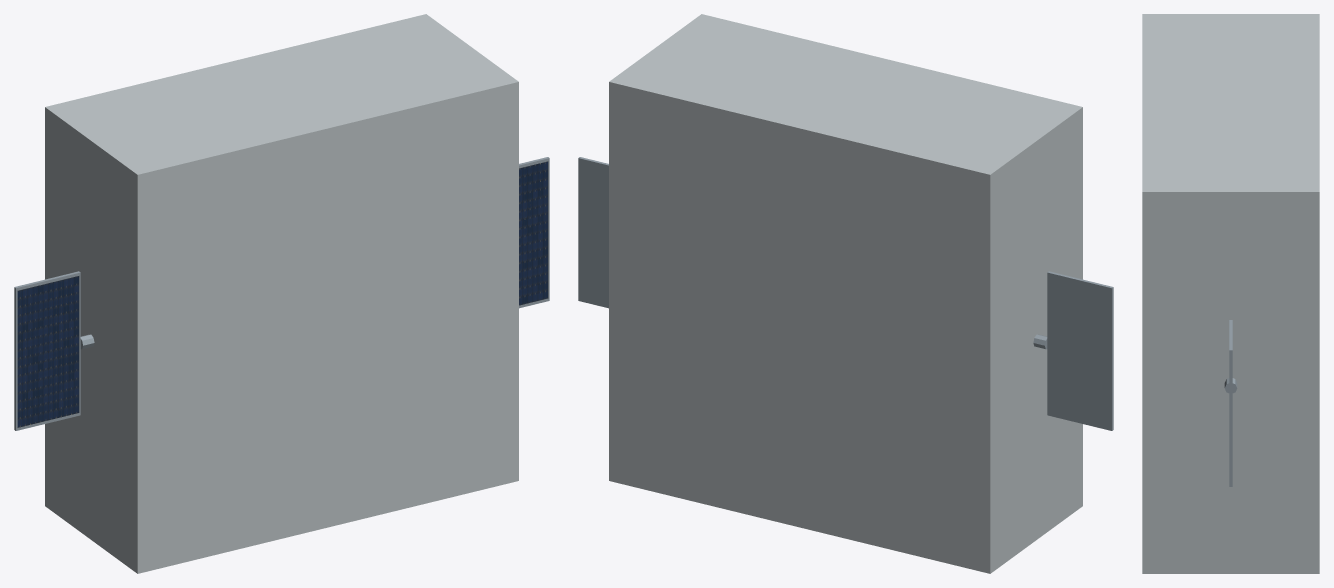
Rendered from ref-erbs-15354.glb.
The picture shows the model from 3 angles, left to right: view 1: azimuth 30°, elevation 25°; view 2: azimuth 150°, elevation 25°; view 3: azimuth 270°, elevation 25°; orthographic projection. The views are drawn at different scales.
Parts seen in each view (by area): view 1: Spacecraft body, Photovoltaic laminates (×2), Array frame; view 2: Spacecraft body, Array frame (×2); view 3: Spacecraft body, Array frame.
Boxes of the visible parts, x1,y1,x2,y2 form: Spacecraft body: (45,14,518,573); Photovoltaic laminates (×2): (17,161,548,427); Array frame: (14,271,80,430); Spacecraft body: (609,14,1082,573); Array frame (×2): (578,157,1113,430); Spacecraft body: (1142,14,1319,573); Array frame: (1229,320,1232,486).
Bounding box in the file's own units: 5.32 × 3.8 × 1.6.
Materials: 3 (1 with a texture image).
